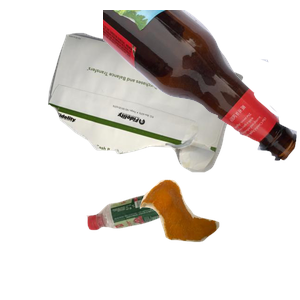glass: (103, 10, 300, 163)
paper: (45, 30, 281, 195)
plastic: (84, 191, 242, 300)
trash: (137, 177, 300, 300)
